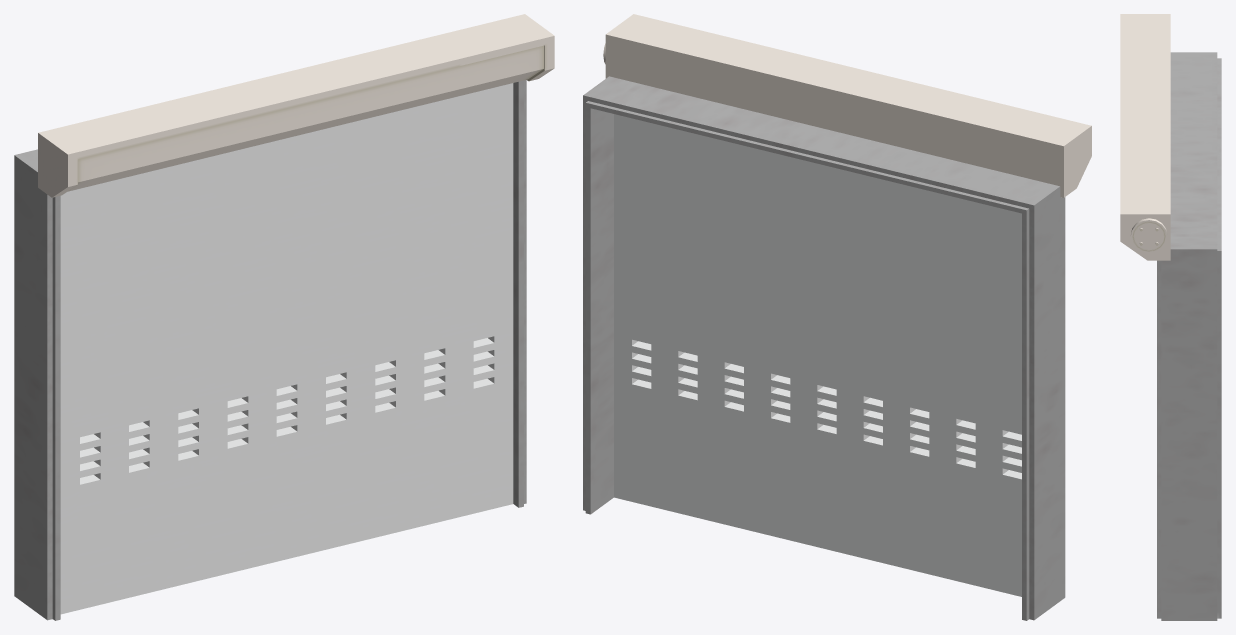
File: SM06_Building_Door_02.fbx
3 renders of one model, left to right at view 1: azimuth 30°, elevation 25°; view 2: azimuth 150°, elevation 25°; view 3: azimuth 270°, elevation 25°, orthographic. The views are drawn at different scales.
Visible parts, largest first — view 1: SM06_Building_Door_02; view 2: SM06_Building_Door_02; view 3: SM06_Building_Door_02.
Boxes of the visible parts, x1,y1,x2,y2 form: SM06_Building_Door_02: [14, 14, 554, 620]; SM06_Building_Door_02: [583, 14, 1091, 620]; SM06_Building_Door_02: [1120, 14, 1221, 620].
Bounding box in the file's own units: 5.14 × 4.83 × 1.08.
